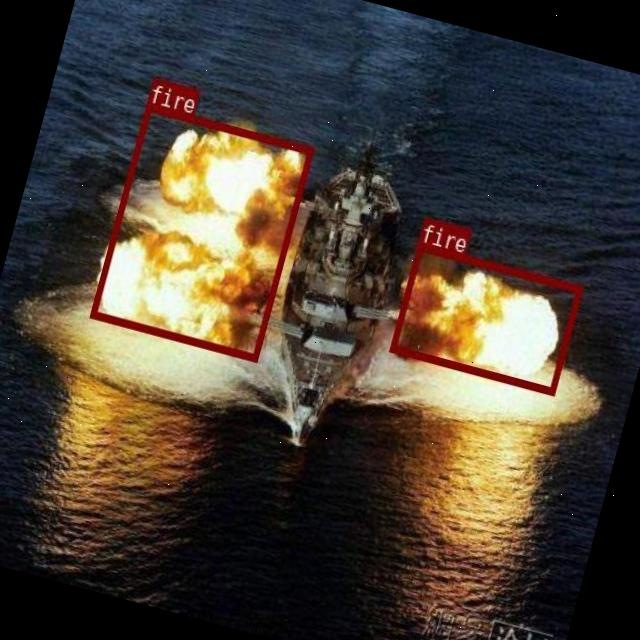fire: (89, 102, 312, 360), (388, 242, 582, 394)
